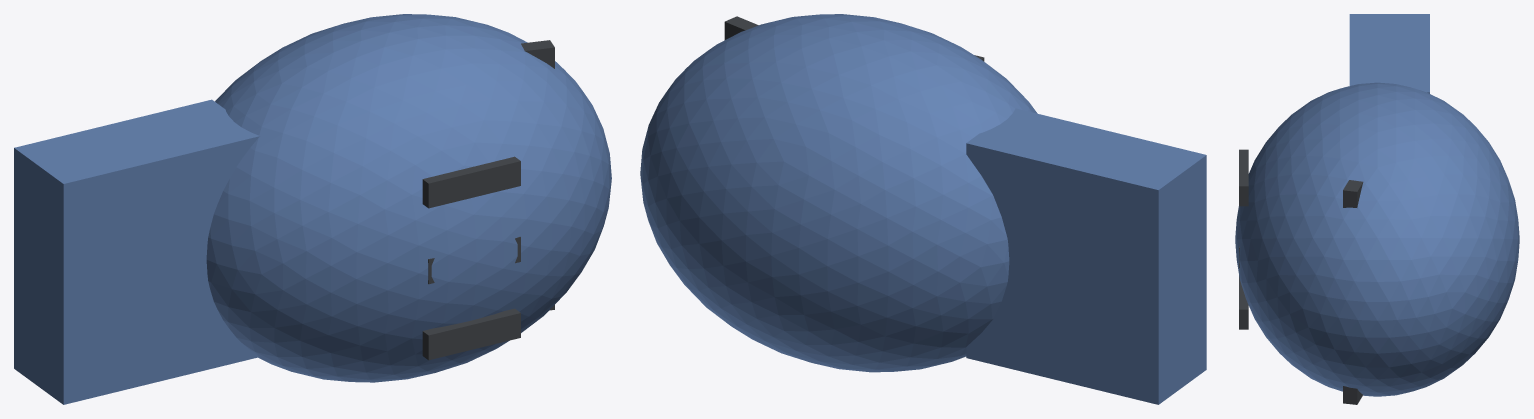
3 views of the same model, side by side, from view 1: azimuth 30°, elevation 25°; view 2: azimuth 150°, elevation 25°; view 3: azimuth 270°, elevation 25° (orthographic). The views are drawn at different scales.
Parts seen in each view (by area): view 1: geometry_0; view 2: geometry_0; view 3: geometry_0.
Boxes of the visible parts, x1,y1,x2,y2 form: geometry_0: [14, 14, 611, 404]; geometry_0: [640, 14, 1206, 404]; geometry_0: [1235, 14, 1519, 404].
Bounding box in the file's own units: 0.415 × 0.24 × 0.23.
